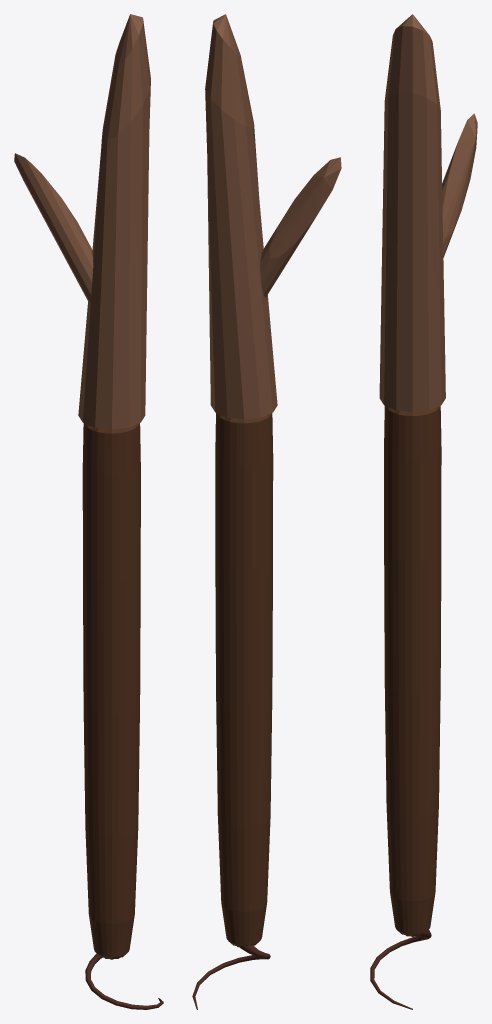
File: Wand 69.glb
The picture shows the model from 3 angles, left to right: view 1: azimuth 30°, elevation 25°; view 2: azimuth 210°, elevation 25°; view 3: azimuth 270°, elevation 25°; orthographic projection.
Visible parts, largest first — view 1: GeneratedWand; view 2: GeneratedWand; view 3: GeneratedWand.
Part boxes in pixels (x1,y1,x2,y2): GeneratedWand: (14,14,163,1009); GeneratedWand: (192,14,341,1009); GeneratedWand: (370,14,477,1009).
Bounding box in the file's own units: 0.0615 × 0.5143 × 0.0511.
